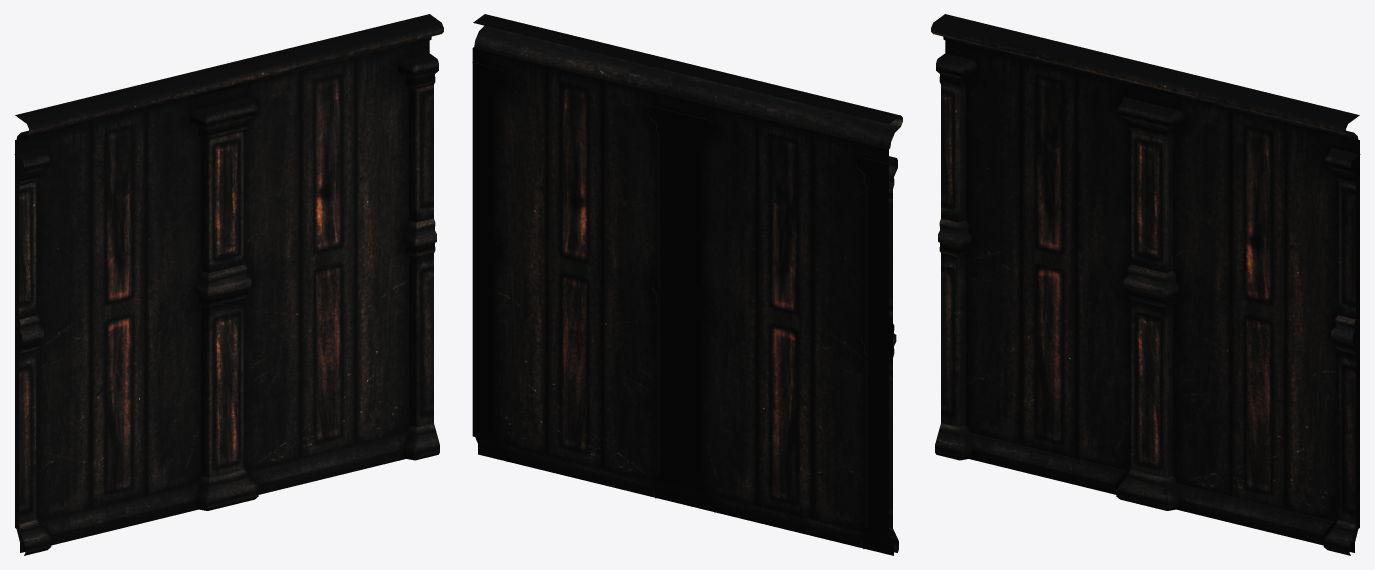
File: default02_rotten.dae
The picture shows the model from 3 angles, left to right: view 1: azimuth 30°, elevation 25°; view 2: azimuth 150°, elevation 25°; view 3: azimuth 330°, elevation 25°; orthographic projection.
Parts seen in each view (by area): view 1: default02; view 2: default02; view 3: default02.
Boxes of the visible parts, x1,y1,x2,y2 form: default02: (14, 14, 443, 555); default02: (472, 14, 902, 555); default02: (931, 14, 1360, 555).
Bounding box in the file's own units: 4 × 4 × 0.2475.
